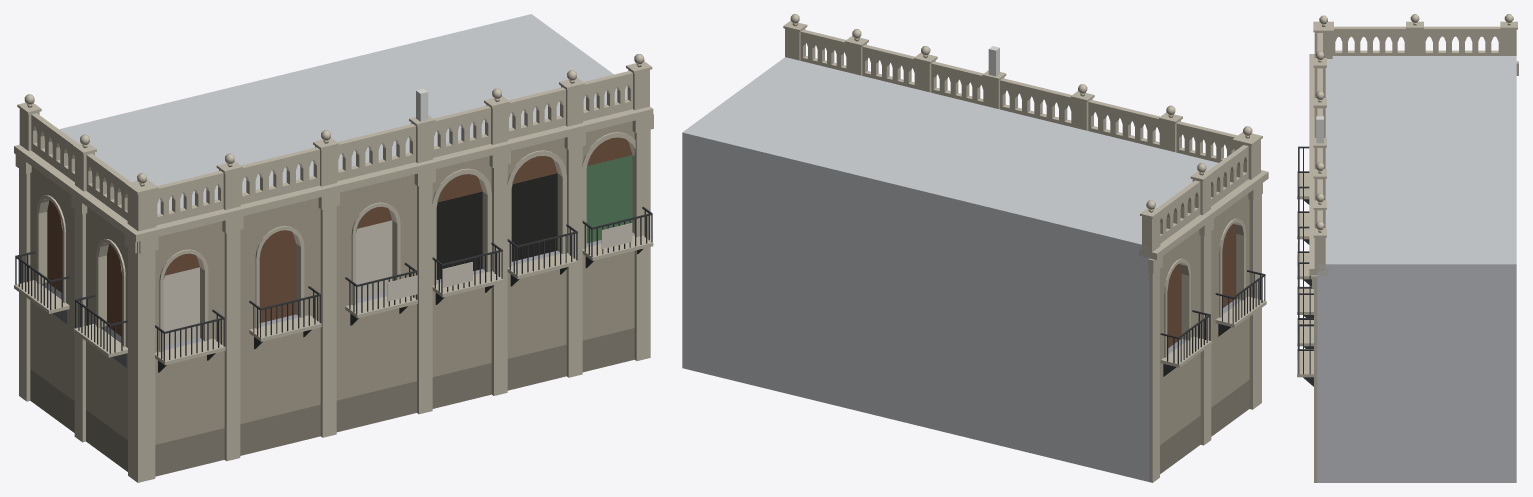
File: ilojo-bar.glb
The picture shows the model from 3 angles, left to right: view 1: azimuth 30°, elevation 25°; view 2: azimuth 150°, elevation 25°; view 3: azimuth 270°, elevation 25°; orthographic projection. The views are drawn at different scales.
Visible parts, largest first — view 1: upper-floor, ground-floor, cap-and-rear, bamgbose-side, parapet; view 2: cap-and-rear, bamgbose-side, parapet; view 3: cap-and-rear, bamgbose-side, upper-floor, parapet, ground-floor.
Part boxes in pixels (x1=…): upper-floor: x1=124, y1=106, x2=653, y2=372; ground-floor: x1=135, y1=237, x2=650, y2=482; cap-and-rear: x1=42, y1=14, x2=634, y2=350; bamgbose-side: x1=14, y1=94, x2=136, y2=480; parapet: x1=125, y1=54, x2=652, y2=231; cap-and-rear: x1=682, y1=57, x2=1241, y2=481; bamgbose-side: x1=1139, y1=145, x2=1266, y2=482; parapet: x1=783, y1=14, x2=1262, y2=179; cap-and-rear: x1=1317, y1=56, x2=1516, y2=482; bamgbose-side: x1=1332, y1=14, x2=1518, y2=75; upper-floor: x1=1297, y1=54, x2=1328, y2=386; parapet: x1=1313, y1=15, x2=1333, y2=268; ground-floor: x1=1314, y1=380, x2=1317, y2=482.
Size of the model in its own units: 19.3 by 11.05 by 8.18.
